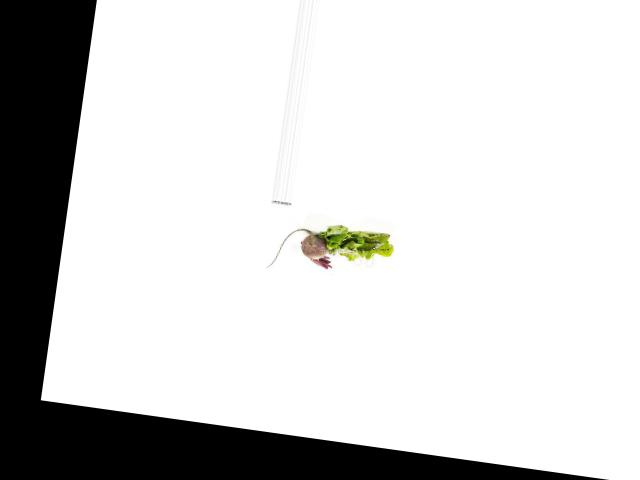beet: (265, 223, 337, 277)
